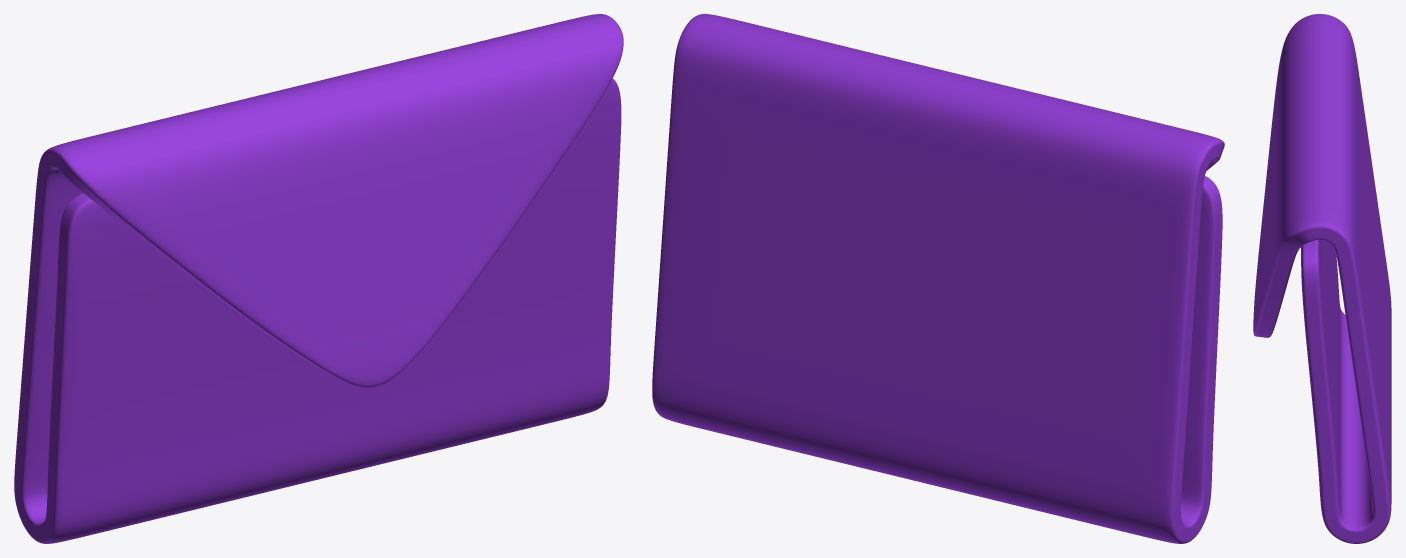
Rendered from message.fbx.
3 renders of one model, left to right at view 1: azimuth 30°, elevation 25°; view 2: azimuth 150°, elevation 25°; view 3: azimuth 270°, elevation 25°, orthographic. The views are drawn at different scales.
Visible parts, largest first — view 1: Mail; view 2: Mail; view 3: Mail.
Part boxes in pixels (box(x1,y1,x2,y2)): Mail: box(14, 14, 623, 543); Mail: box(652, 14, 1224, 543); Mail: box(1253, 14, 1391, 543).
Bounding box in the file's own units: 196 × 138 × 53.82.
